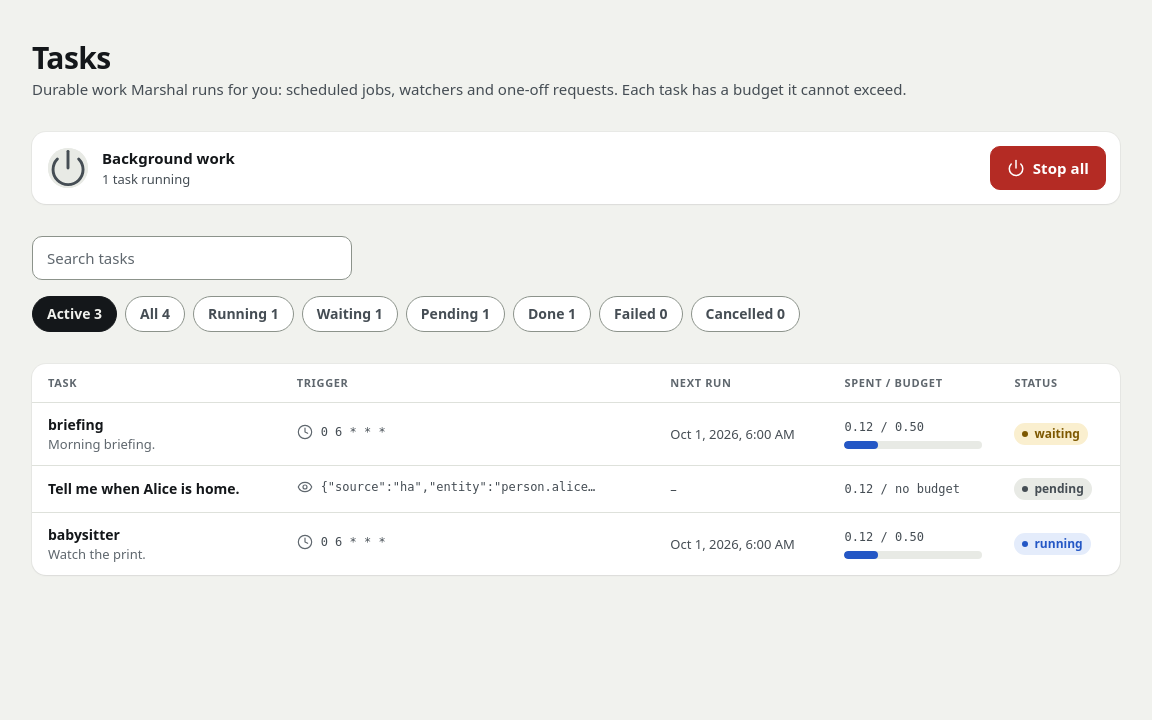
Scenario: TasksView › shows the kill switch while a task runs and stops after confirming
This screenshot has width=1152, height=720.
Click the button with test id "stop" at coordinates (1048, 168), box x1=990 y1=146 x2=1106 y2=190
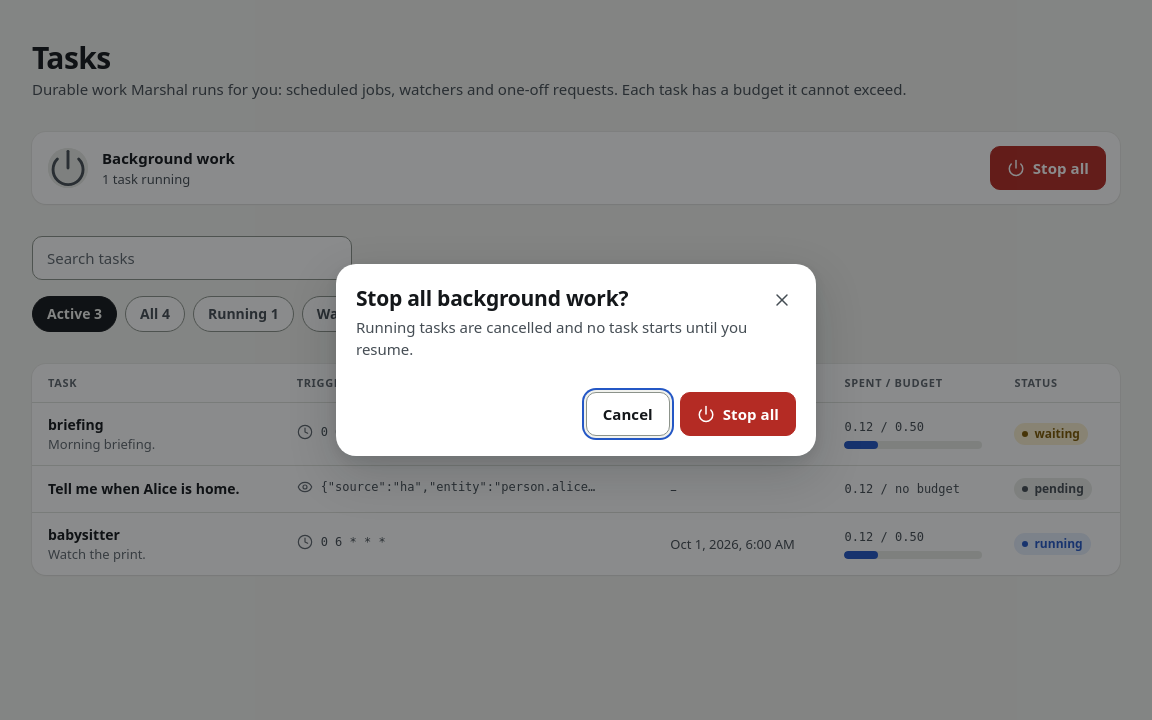
Click the button with test id "confirm-stop" at coordinates (738, 414), box x1=680 y1=392 x2=796 y2=436
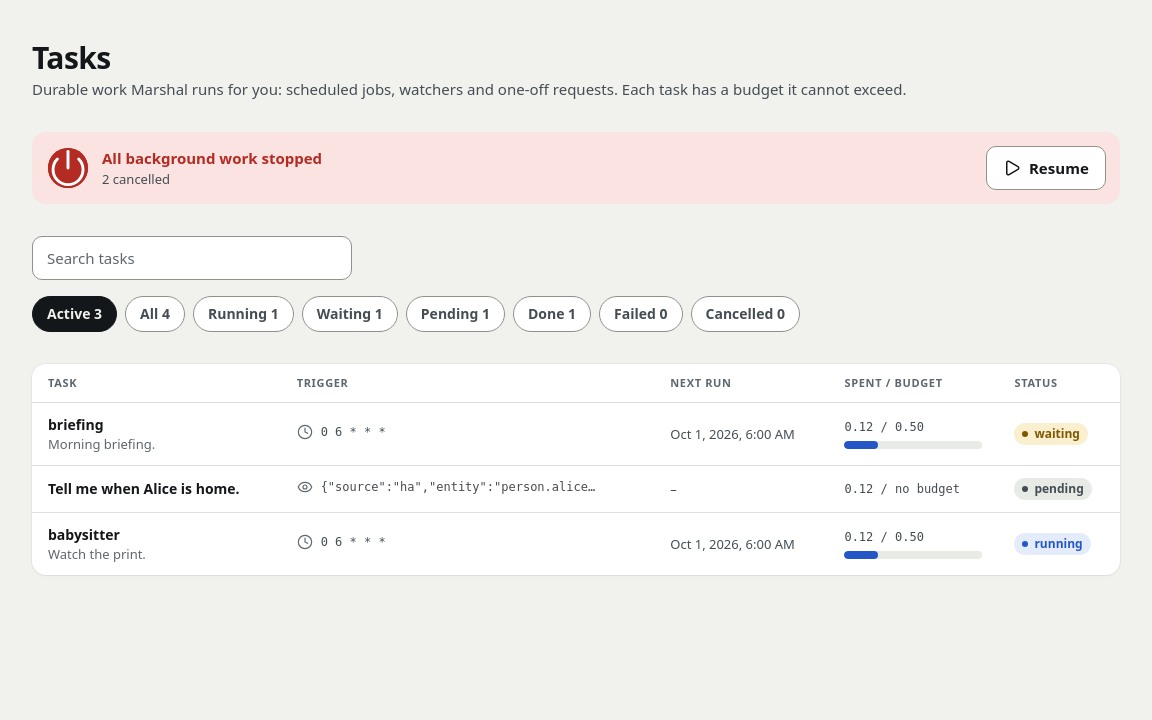
Expected: the element with test id "kill-switch" shows "2 cancelled", x1=102 y1=170 x2=170 y2=188
